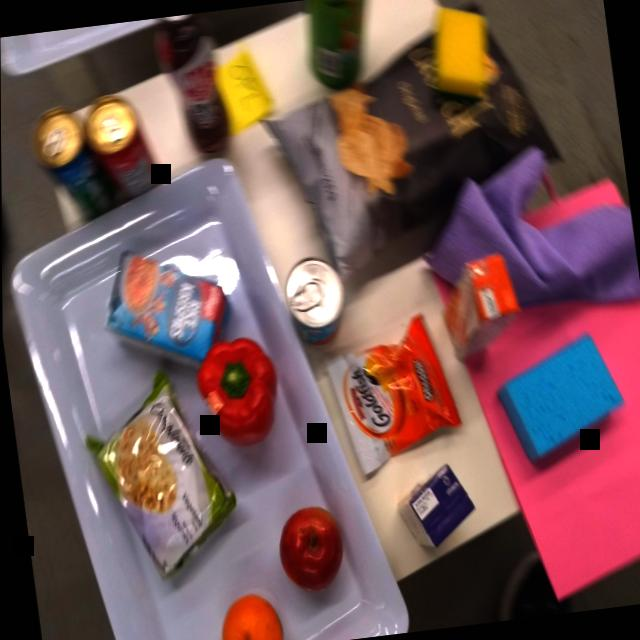apple: (268, 500, 350, 597)
cereal: (93, 236, 234, 384)
cloth_opl: (407, 135, 640, 332)
coke: (77, 88, 168, 205)
crackers: (320, 309, 468, 484)
grape_juice: (388, 456, 483, 557)
noodles: (77, 364, 248, 600)
orange: (210, 585, 287, 640)
orange_juice: (441, 248, 528, 365)
paprika: (191, 329, 290, 455)
sausages: (275, 250, 353, 352)
scrubby: (422, 0, 498, 111)
sponge_opl: (482, 324, 633, 476)
sprite: (21, 98, 120, 231)
